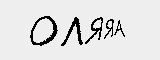А: (113, 19, 126, 38)
Л: (59, 15, 84, 48)
О: (25, 14, 57, 45)
Я: (84, 16, 105, 44), (103, 18, 115, 39)
